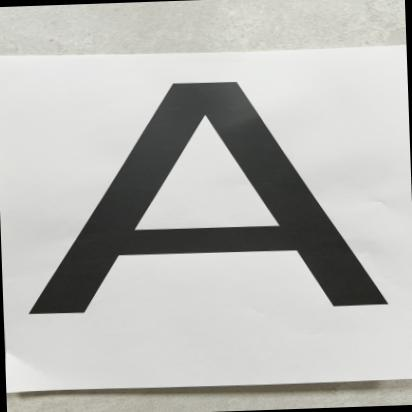seat: (8, 61, 412, 340), (10, 67, 412, 339)
